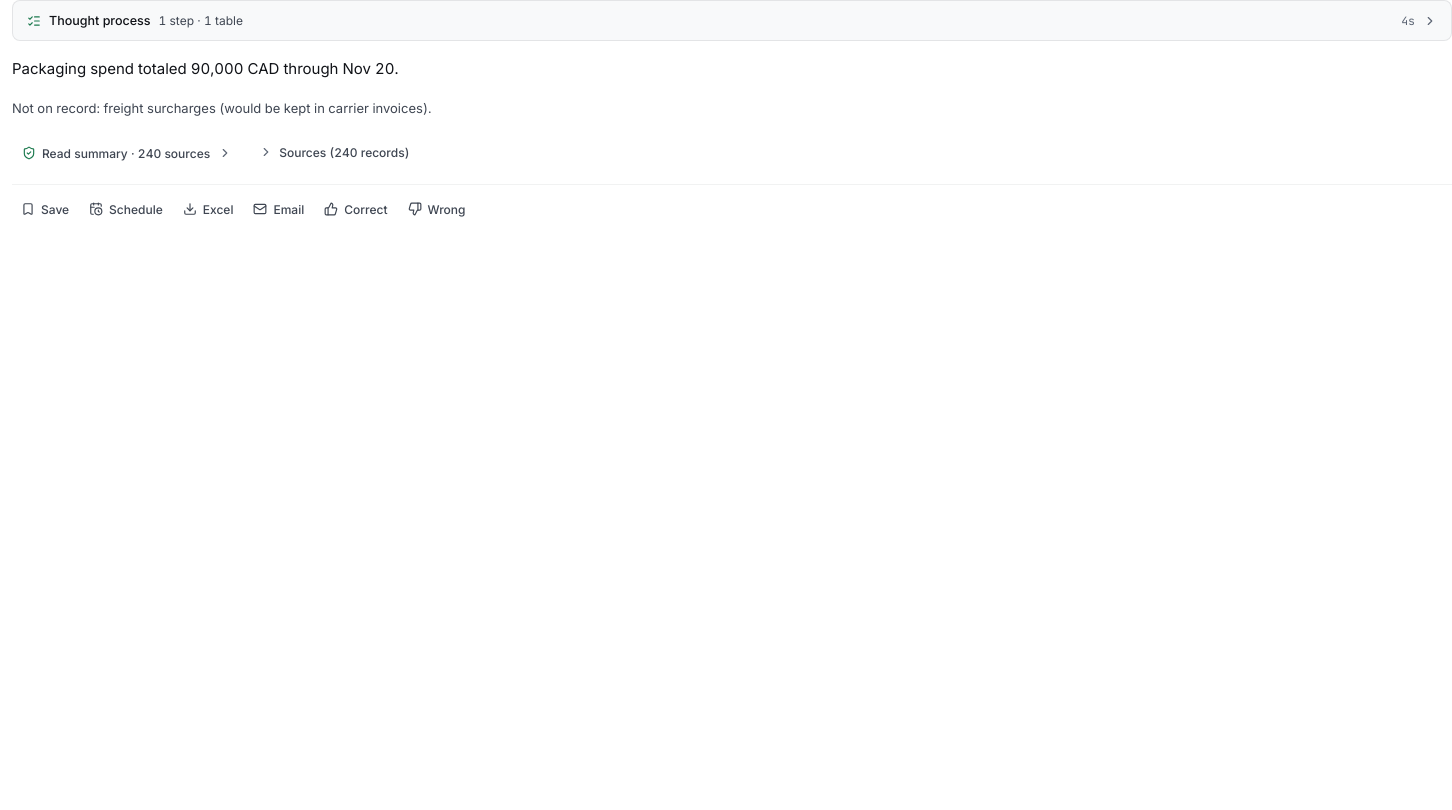
Test: GG2: Sources panel result profile and coverage rows › surfaces structured result profile metadata and coverage rows inside the expandable Sources panel without cluttering the main answer
Check: the element with test id "simple-answer-text" reads "Packaging spend totaled 90,000 CAD through Nov 20.", box left=12, top=59, right=398, bottom=78
Check: the element with test id "simple-answer-text" does not show "Rows read", box left=12, top=59, right=398, bottom=78
Click the heading "Sources (240 records)". click: (334, 152)
box: left=259, top=145, right=409, bottom=160
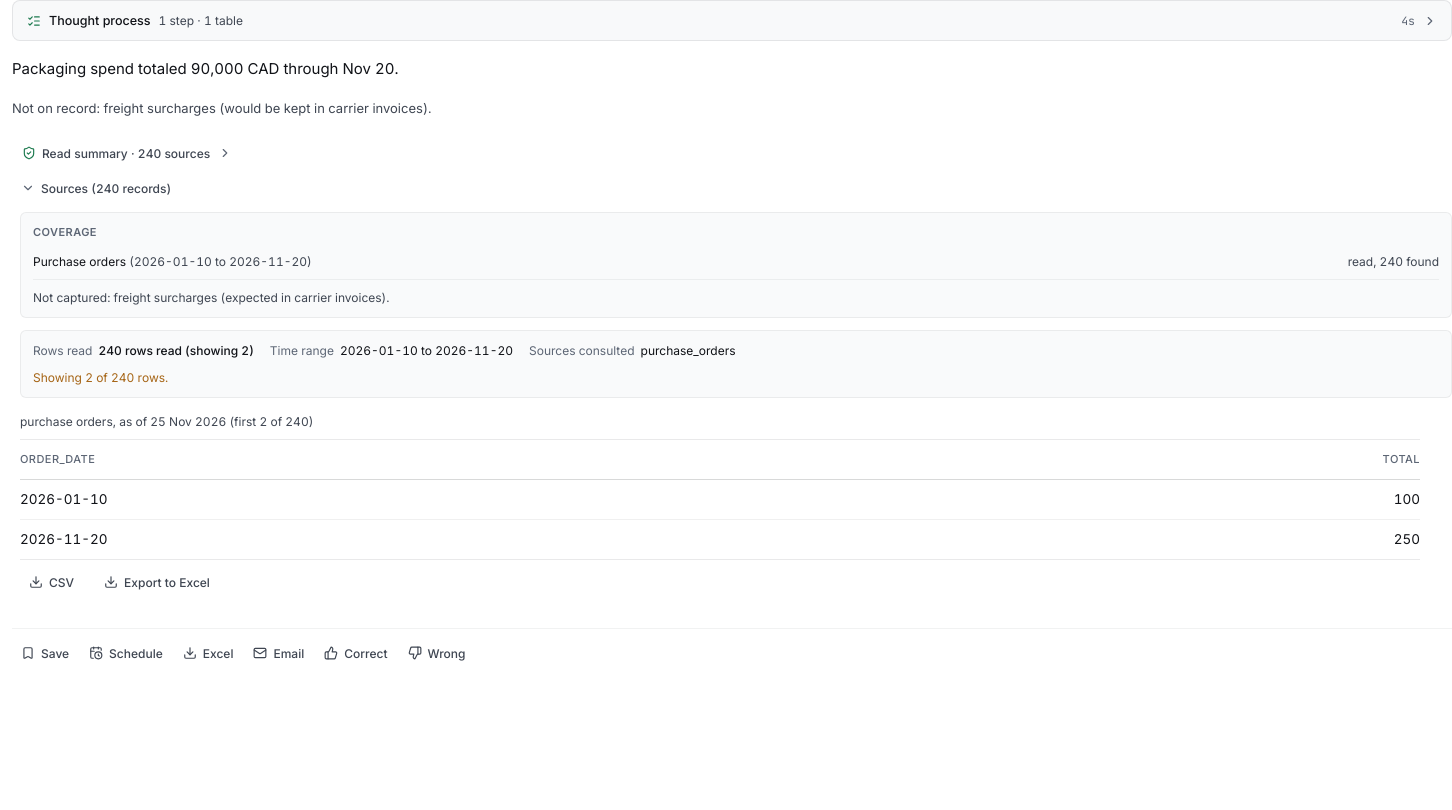
Check: the element with test id "source-profile" shows "240 rows read (showing 2)", box left=98, top=343, right=254, bottom=358
Check: the element with test id "source-profile" shows "2026-01-10 to 2026-11-20", box left=340, top=343, right=513, bottom=358
Check: the element with test id "source-profile" shows "purchase_orders", box left=640, top=343, right=736, bottom=358
